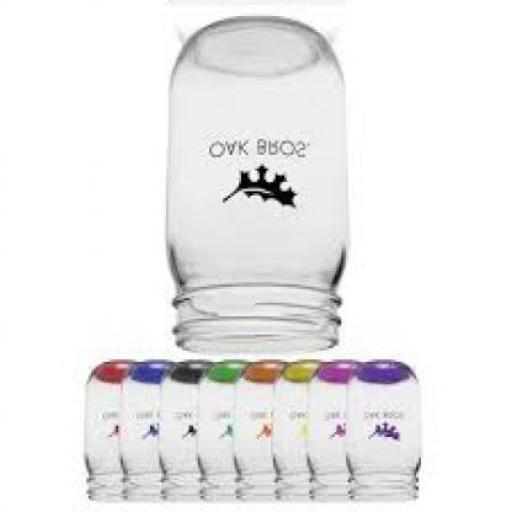glass: (164, 18, 350, 355), (343, 362, 421, 504), (307, 364, 364, 502), (119, 366, 173, 505), (269, 364, 323, 502), (230, 366, 282, 505), (196, 364, 244, 505), (157, 364, 205, 502), (84, 364, 132, 502)
